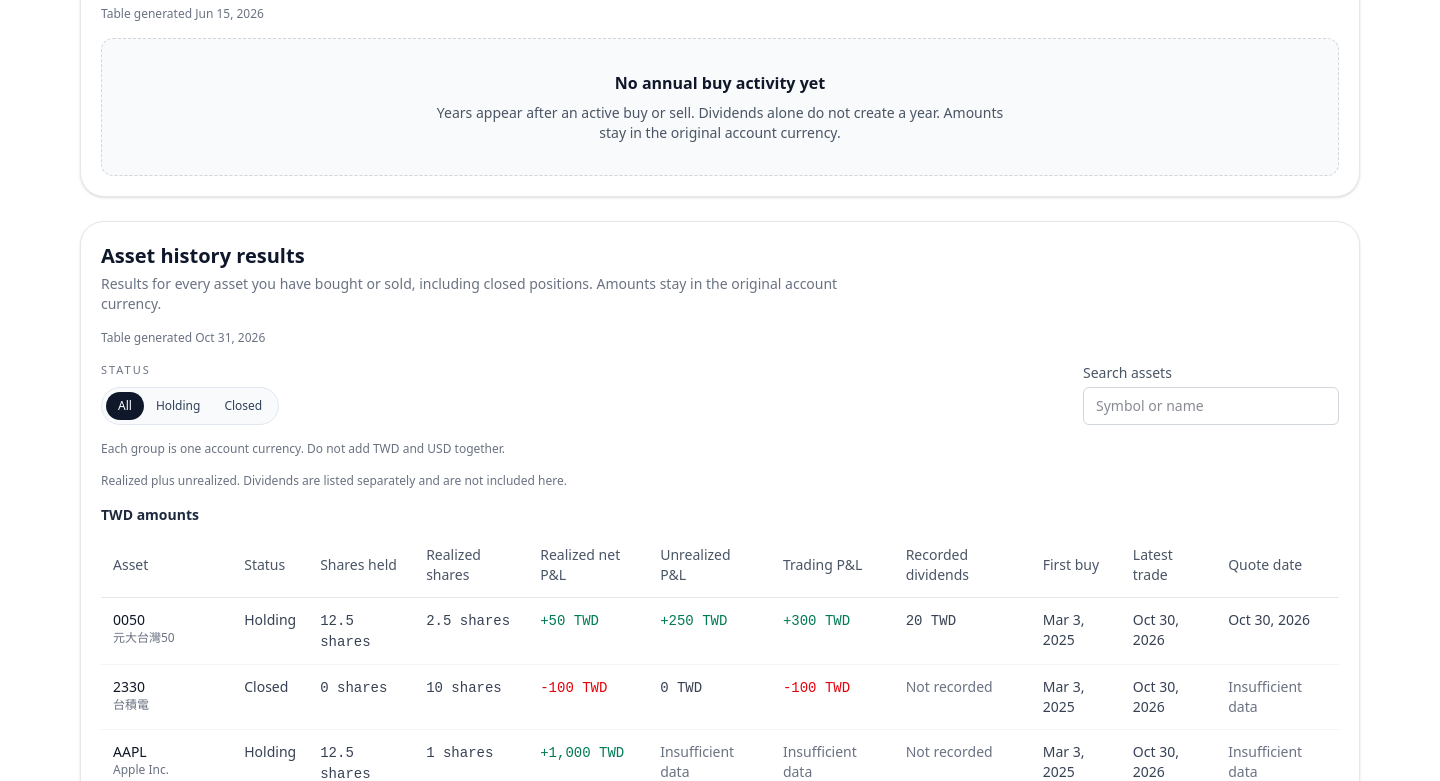
Test: Performance page › filters closed rows and searches by symbol
The image size is (1440, 781).
(page scrolled)
Check: the text "0050" is shown, box [113,610,145,628]
Click the button "Closed" at point(243, 406), box [212,392,274,420]
(page scrolled)
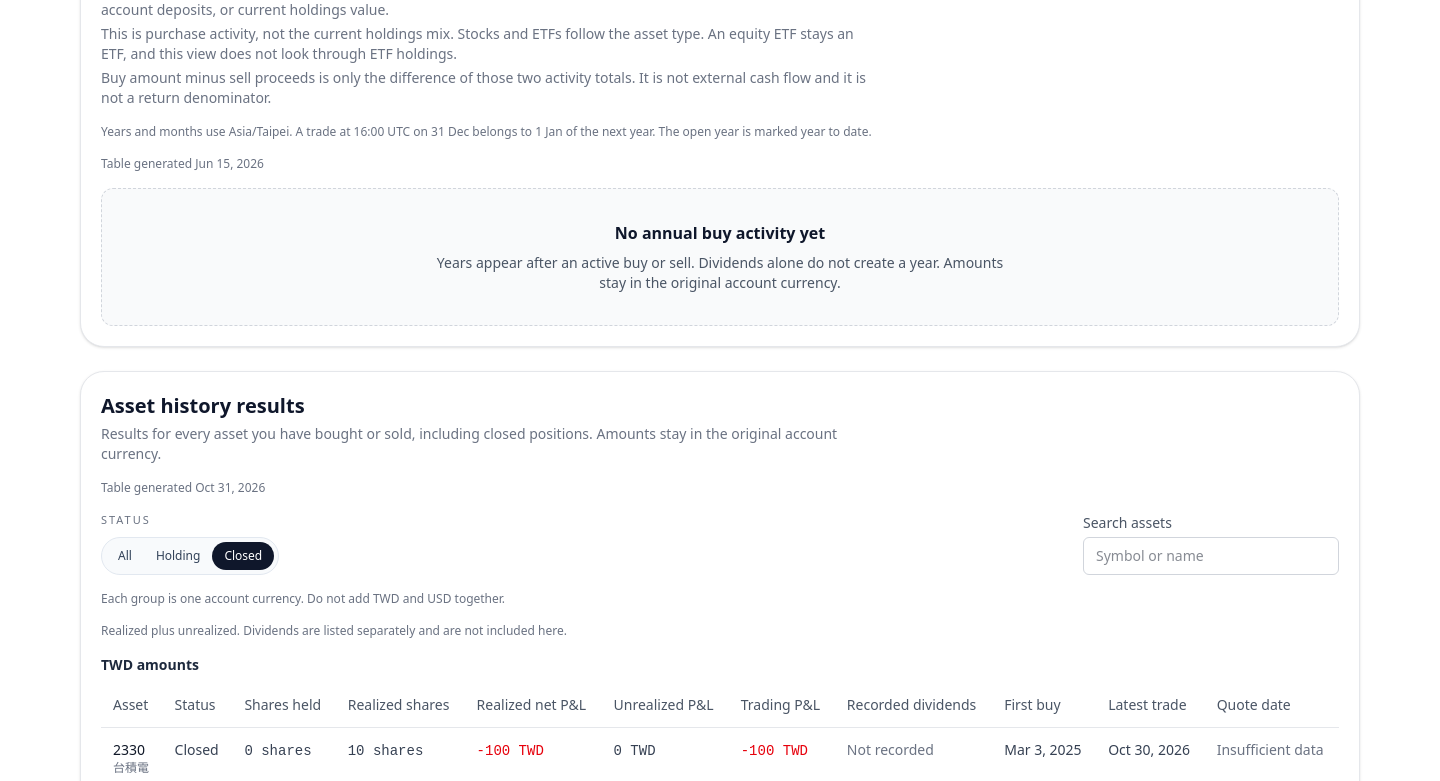
Check: the text "2330" is shown, box [113,740,150,760]
Check: the text "0050" is gone
Click the button "All" at point(125, 556), box [106,542,144,570]
(page scrolled)
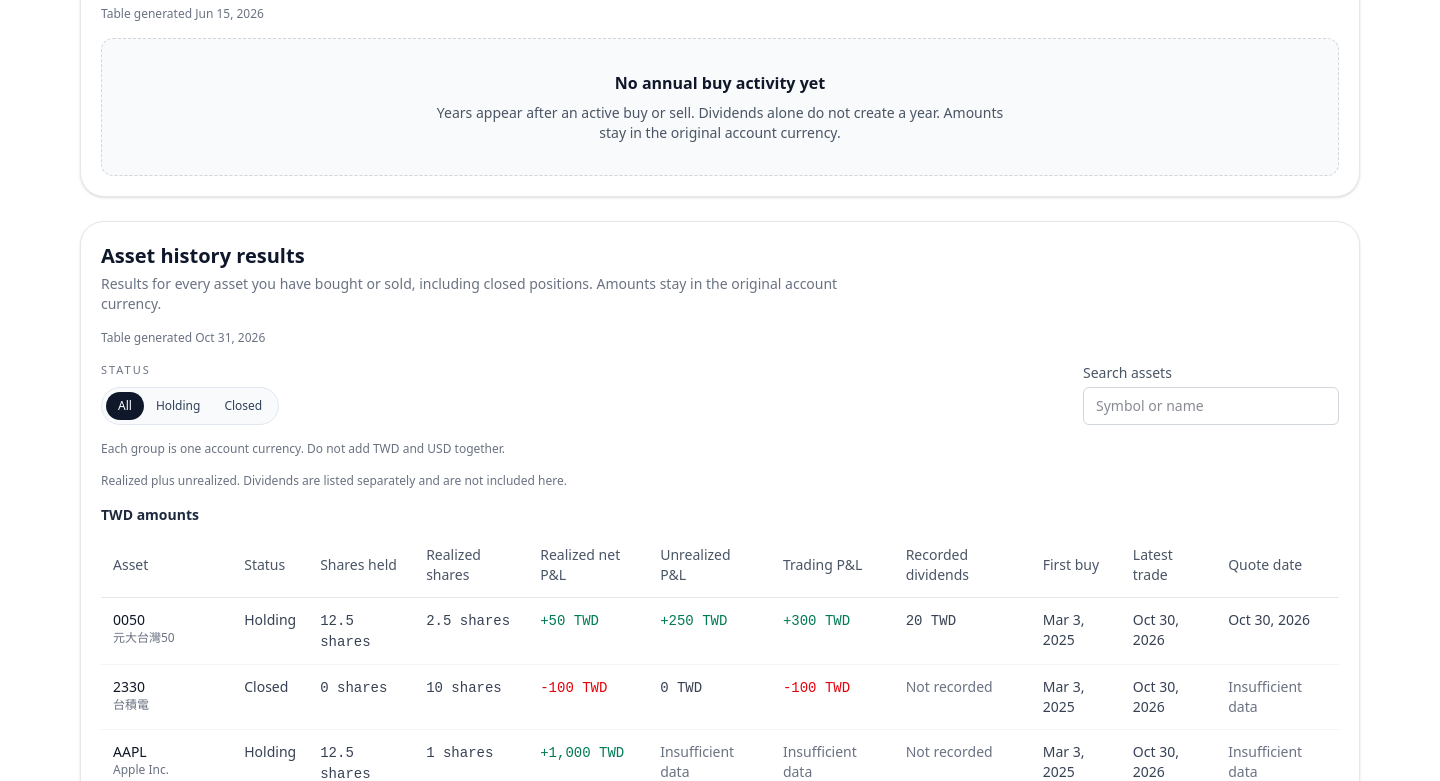
Type "AAPL" into the search field with placeholder "Symbol or name" at point(1211, 406), box [1083,386,1339,424]
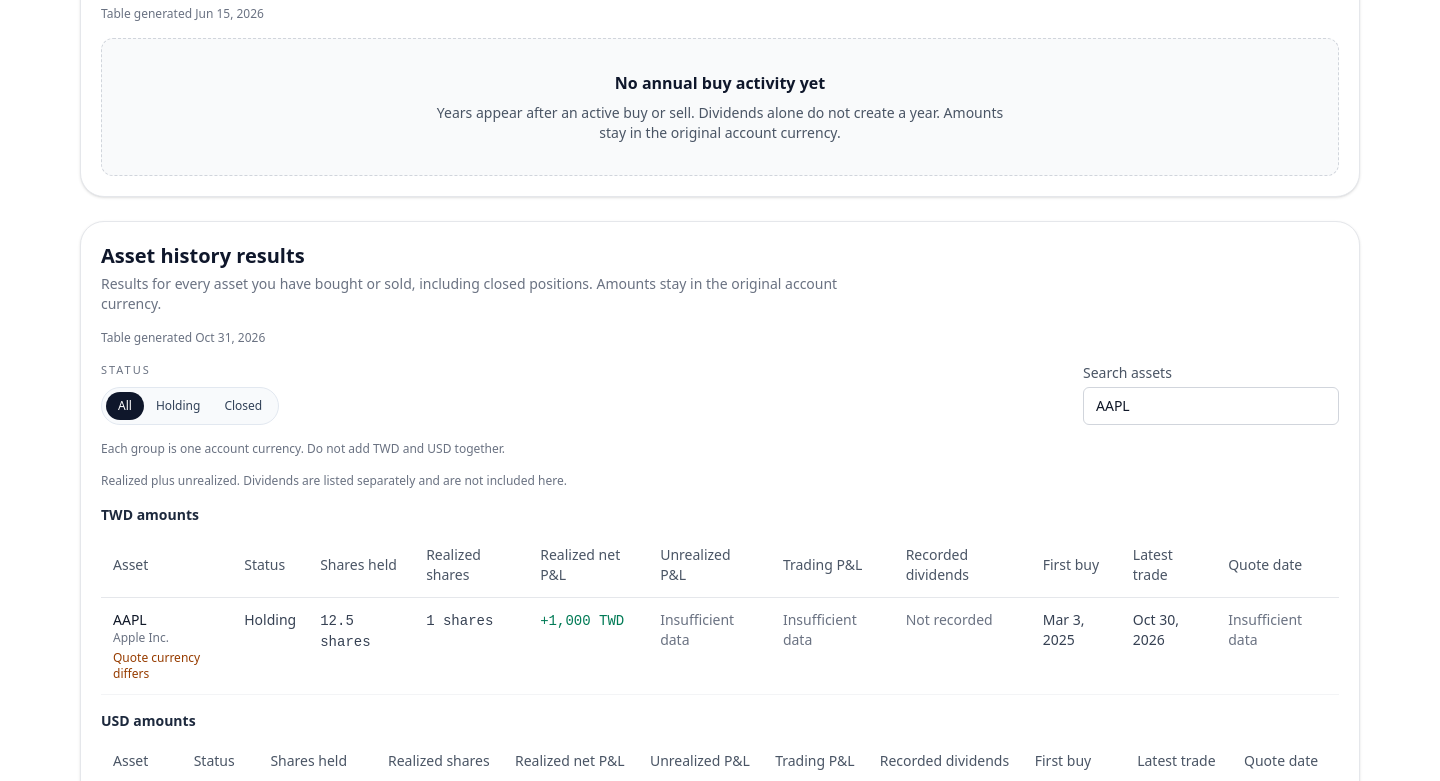
Check: the text "0050" is gone
